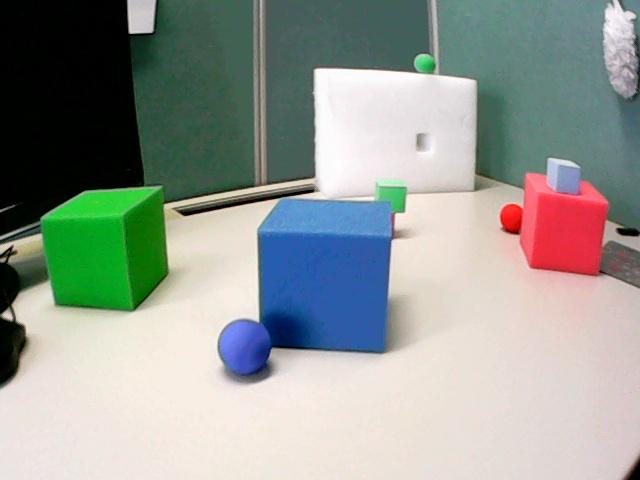blue_block: (258, 199, 391, 351), (547, 157, 580, 194)
red_block: (520, 173, 608, 274)
